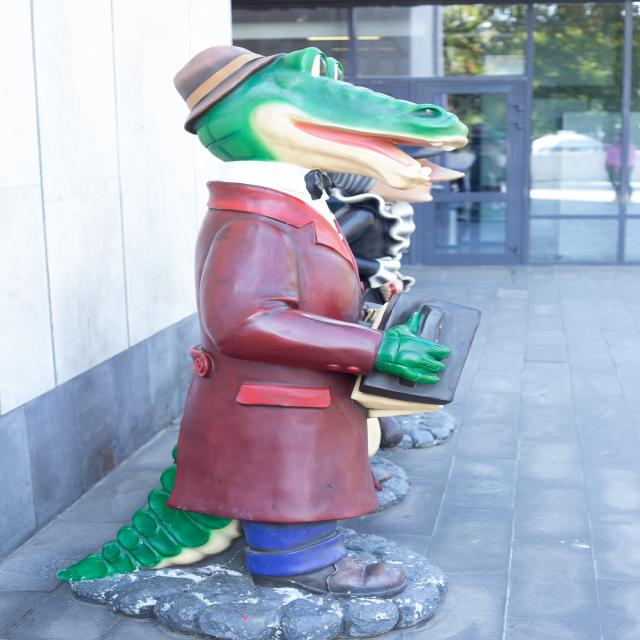gena: (64, 39, 485, 640)
shapoklyak: (326, 167, 473, 288)
